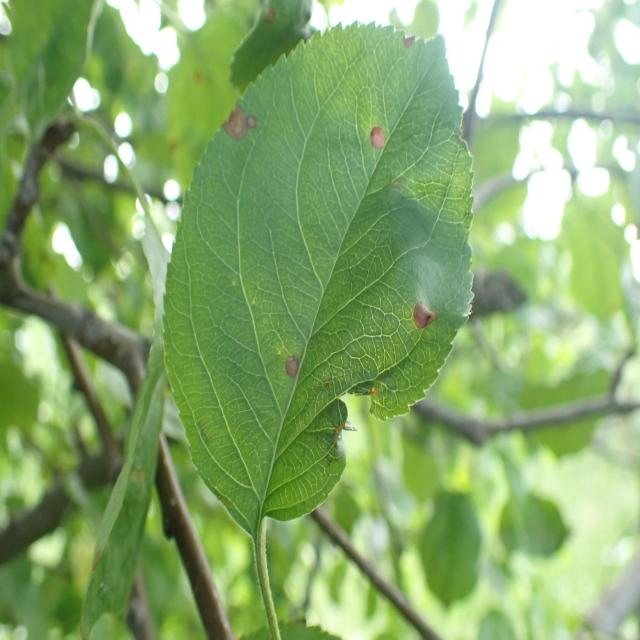Black Rot: (214, 88, 266, 155), (399, 290, 456, 343), (358, 102, 389, 166), (277, 346, 308, 396), (397, 14, 430, 59)
